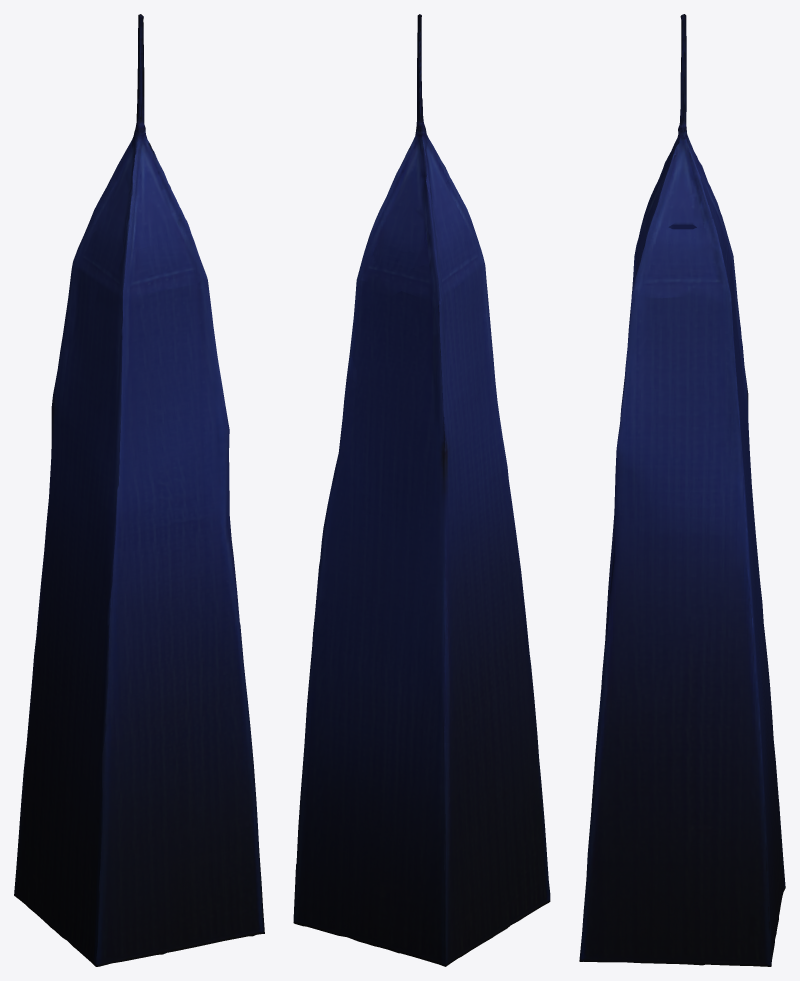
The model's file is skyscraper.glb.
3 renders of one model, left to right at view 1: azimuth 30°, elevation 25°; view 2: azimuth 150°, elevation 25°; view 3: azimuth 270°, elevation 25°, orthographic.
Parts seen in each view (by area): view 1: geometry_0; view 2: geometry_0; view 3: geometry_0.
Part boxes in pixels (left/top/right/bottom): geometry_0: left=14, top=14, right=264, bottom=966; geometry_0: left=293, top=14, right=550, bottom=966; geometry_0: left=579, top=14, right=785, bottom=966.
Size of the model in its own units: 0.1991 by 1 by 0.2052.
Materials: 1 (1 with a texture image).
